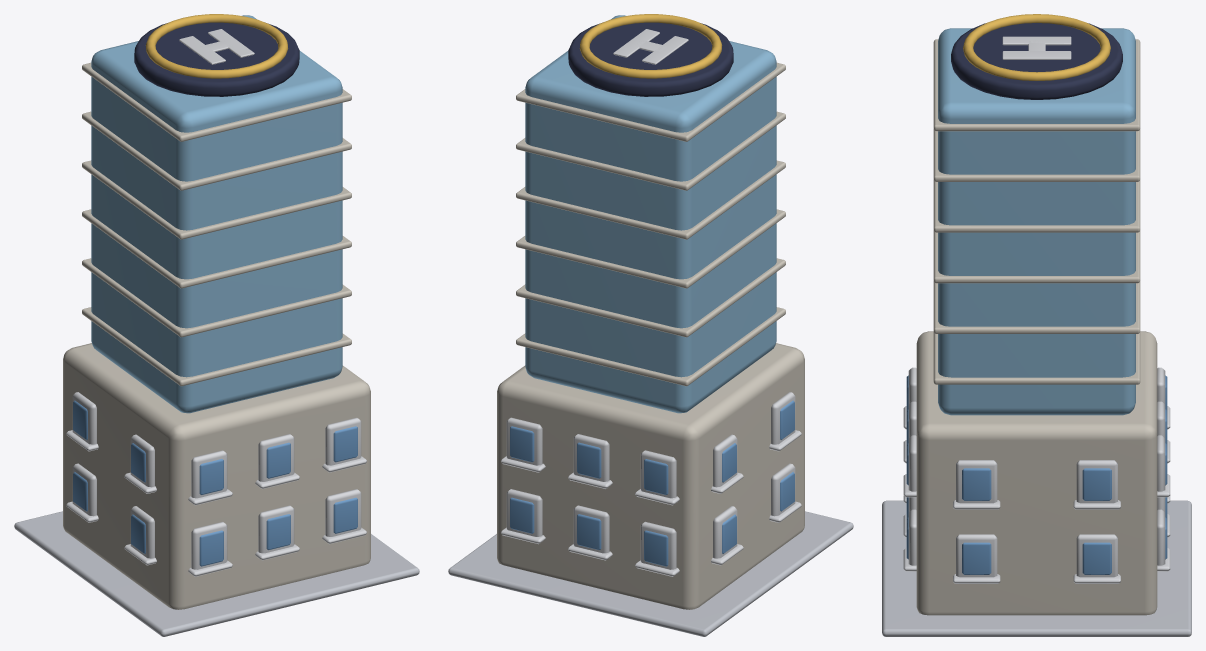
3 views of the same model, side by side, from view 1: azimuth 30°, elevation 25°; view 2: azimuth 150°, elevation 25°; view 3: azimuth 270°, elevation 25° (orthographic). The views are drawn at different scales.
Visible parts, largest first — view 1: Cube; view 2: Cube; view 3: Cube.
Part boxes in pixels (x1,y1,x2,y2): Cube: (14, 14, 419, 636); Cube: (448, 14, 853, 636); Cube: (882, 14, 1191, 636).
Size of the model in its own units: 0.72 by 1.36 by 0.72.
